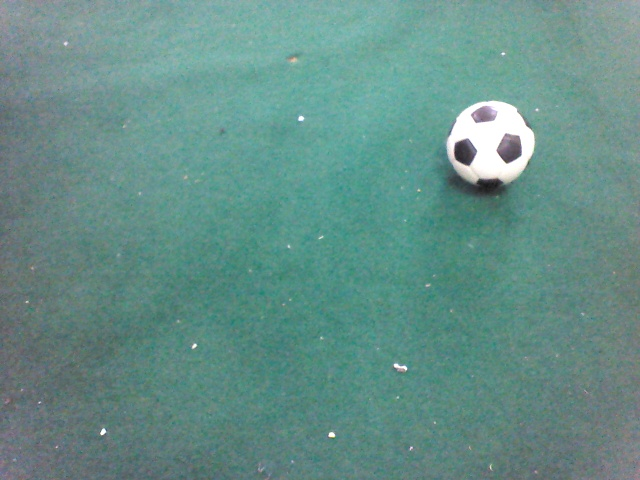ball: (43, 298, 199, 448)
